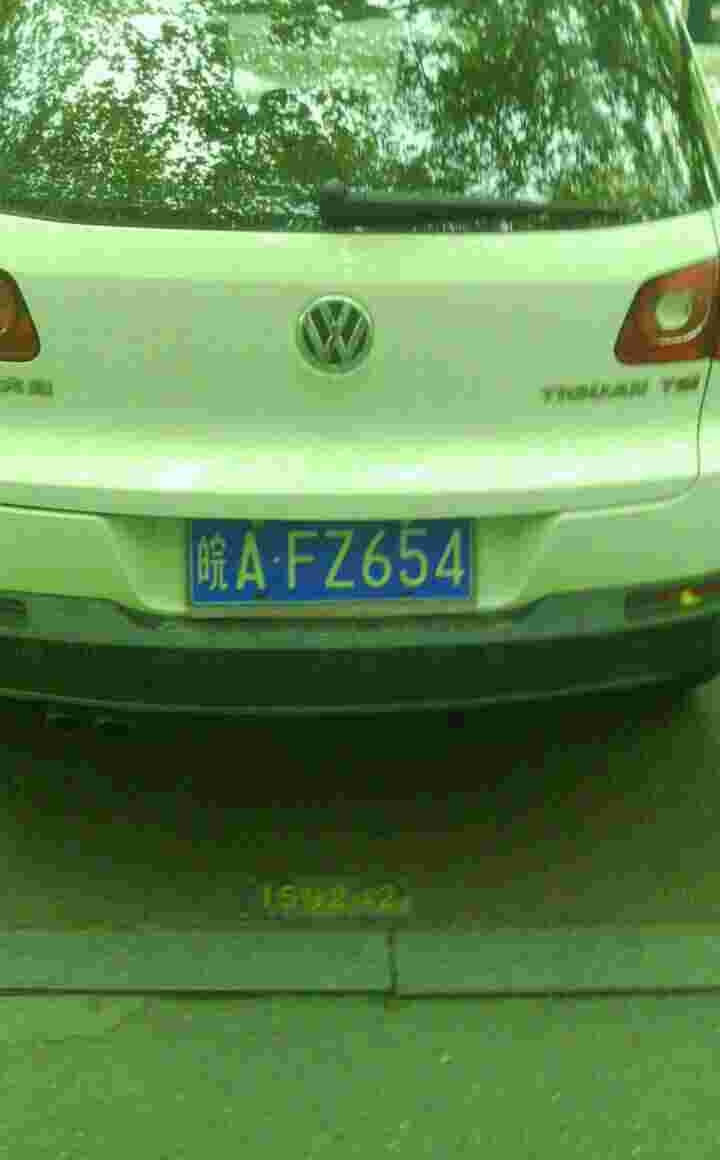plate: (191, 510, 480, 607)
